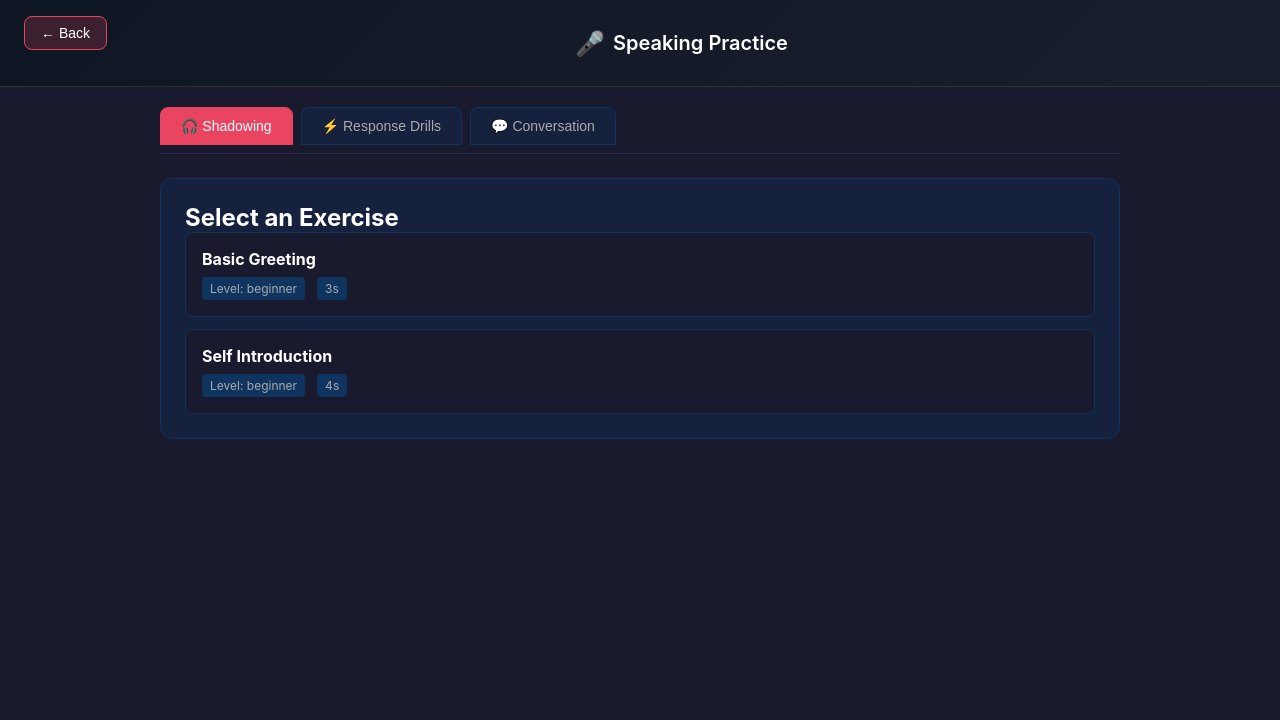
Scenario: SpeakingMode › Shadowing Mode › should go back to exercise list when back button is clicked
What coordinates should you click on to do the following:
click the heading "Basic Greeting"
I would click on:
 (259, 259)
Its box is [202, 249, 316, 269].
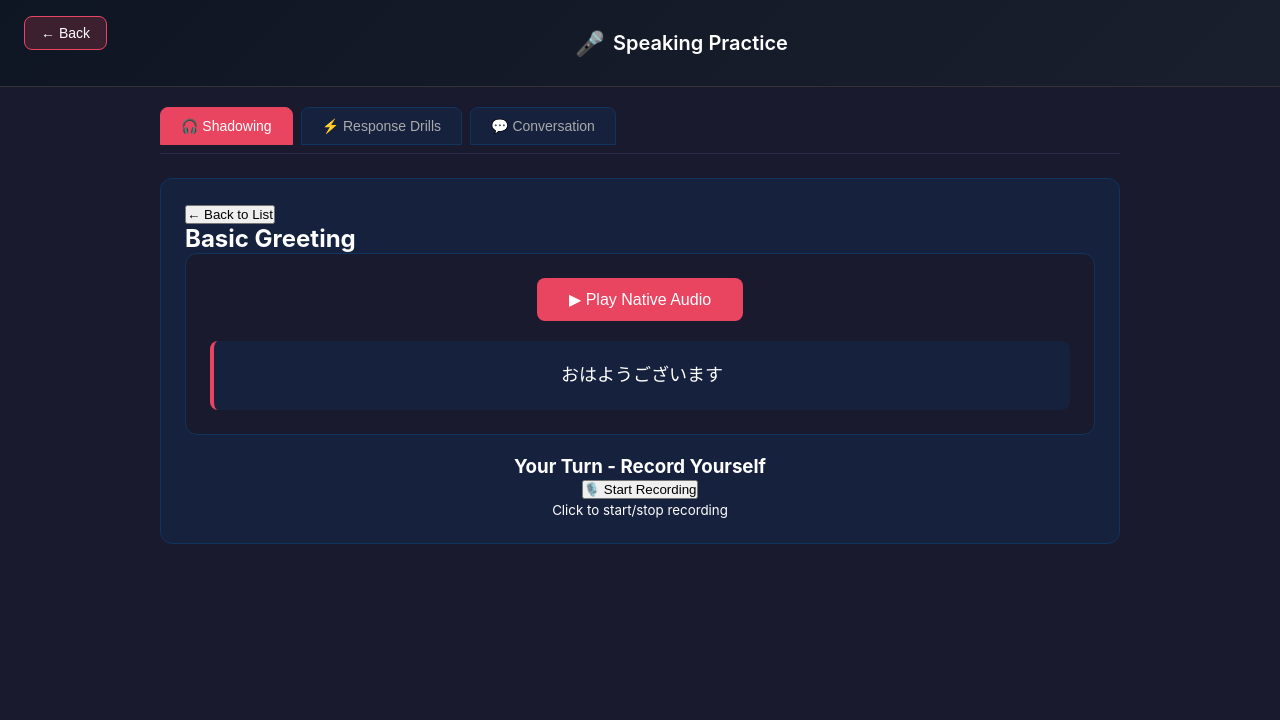
Expected: the button "← Back to List" is shown
What coordinates should you click on to do the following:
click the button "← Back to List"
I would click on:
 (230, 214)
Its box is [185, 205, 275, 224].
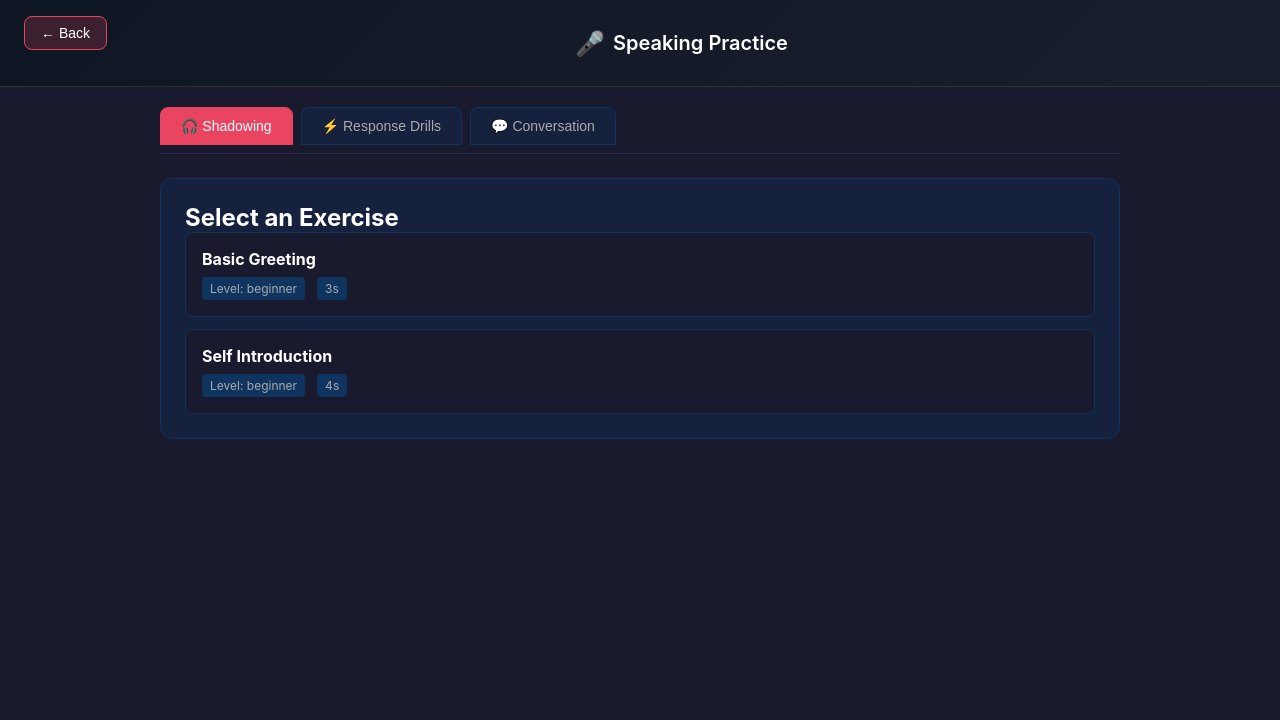
Expected: the heading "Select an Exercise" is shown, [185, 203, 399, 232]
